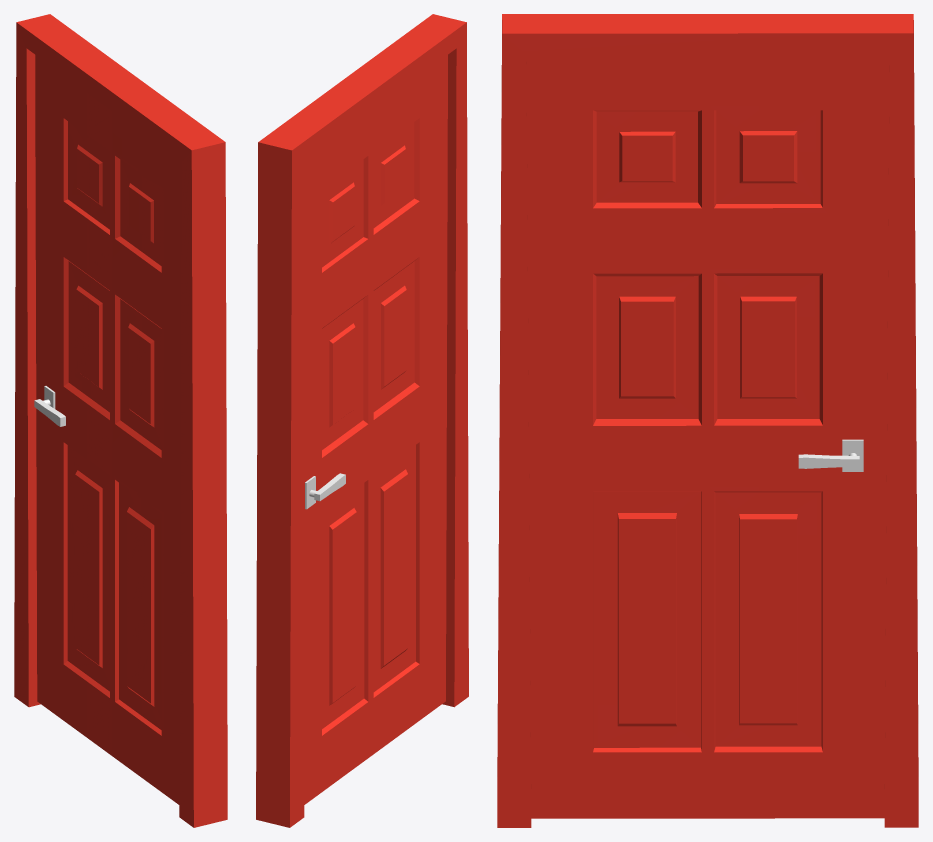
The model's file is Room_Door.glb.
The picture shows the model from 3 angles, left to right: view 1: azimuth 30°, elevation 25°; view 2: azimuth 150°, elevation 25°; view 3: azimuth 270°, elevation 25°; orthographic projection. The views are drawn at different scales.
Parts seen in each view (by area): view 1: DOOR.001; view 2: DOOR.001; view 3: DOOR.001.
Part boxes in pixels (<box>): DOOR.001: <box>14,14,227,827</box>; DOOR.001: <box>256,14,468,827</box>; DOOR.001: <box>497,14,918,827</box>.
Size of the model in its own units: 0.15 by 2.2 by 1.06.
